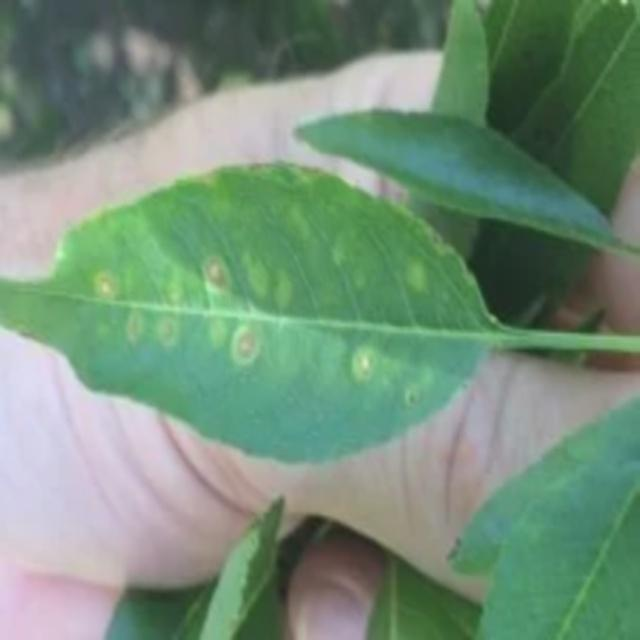leaf_spot: (2, 152, 534, 486)
